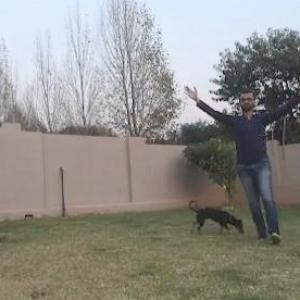takeoff: (176, 79, 299, 255)
